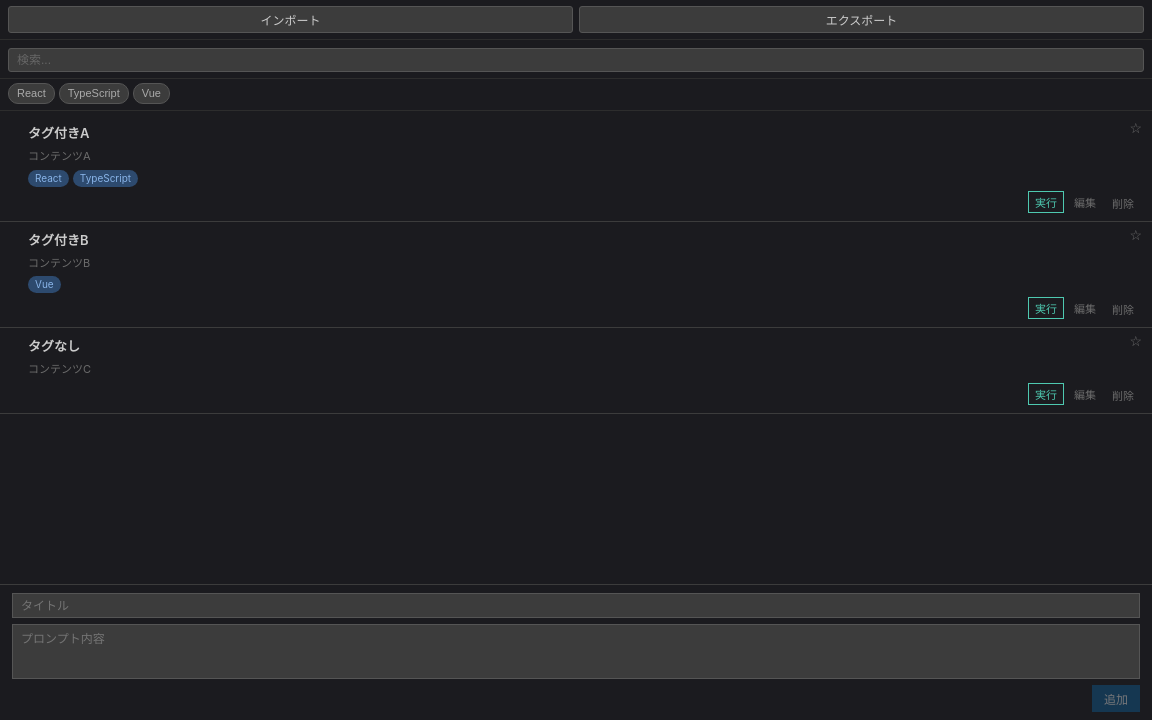
Test: PromptsPanel › タグフィルター › タグをクリックすると該当タグを持つプロンプトだけが表示される
What coordinates should you click on to do the following:
click the button "React"
I would click on:
 (31, 94)
Its box is left=8, top=83, right=55, bottom=104.
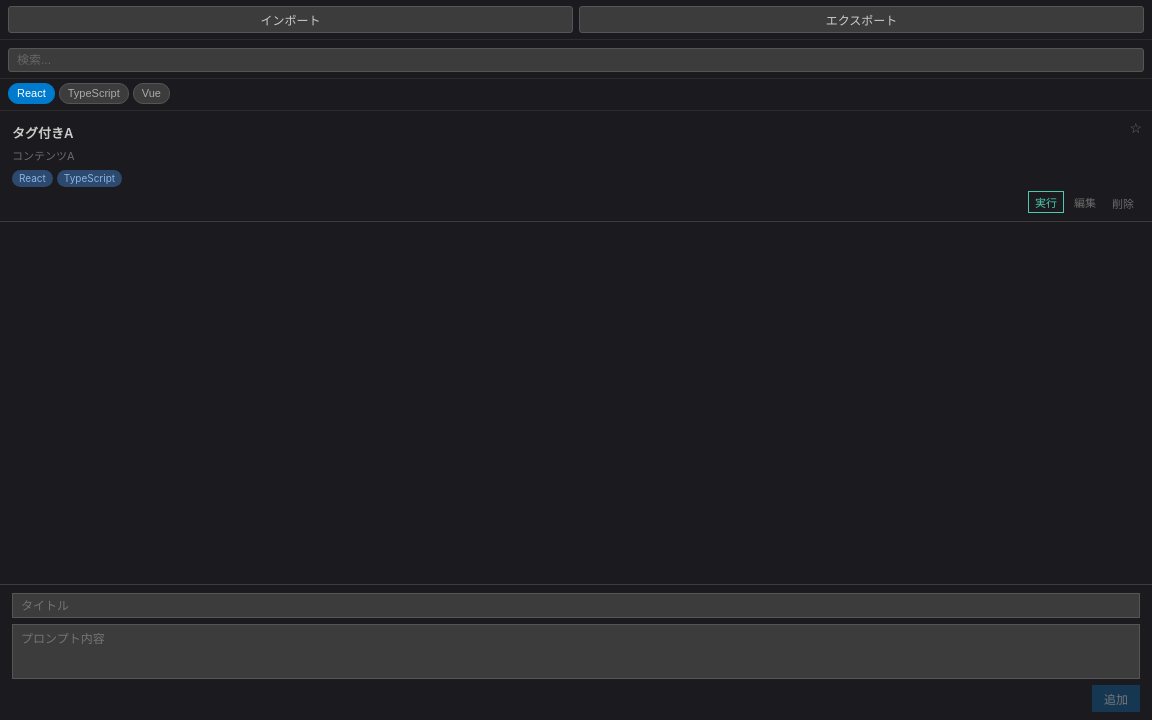
Expected: the text "タグ付きA" is shown, left=12, top=125, right=74, bottom=141
Now the text "タグ付きB" is gone
Now the text "タグなし" is gone
